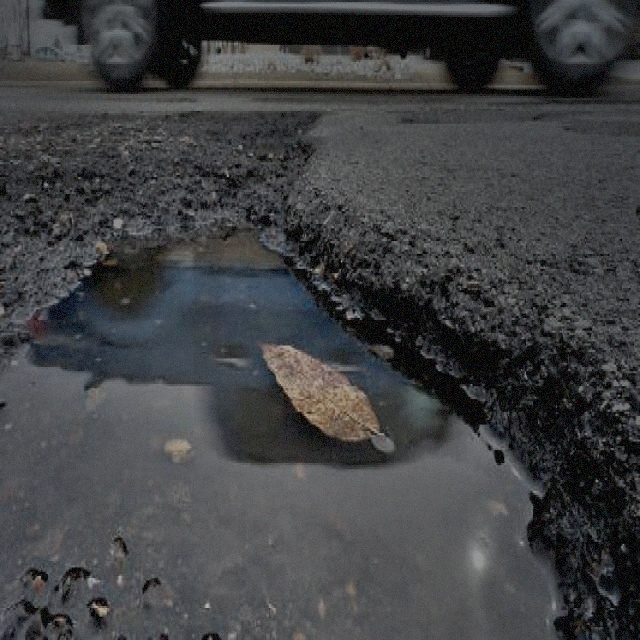pothole: (0, 104, 636, 637)
